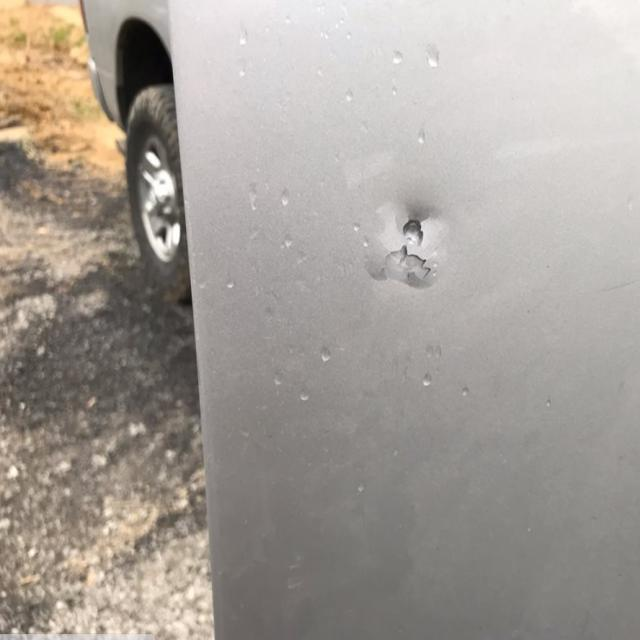dents: (375, 206, 466, 318)
